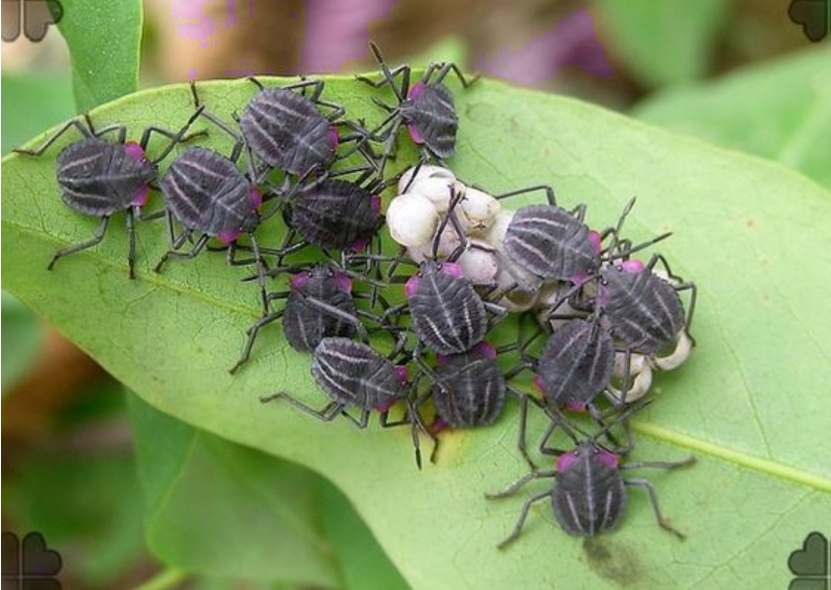Stink_Bug: (26, 119, 172, 222), (128, 145, 262, 256), (521, 417, 662, 522), (248, 255, 379, 363), (205, 77, 348, 162), (391, 157, 512, 251), (410, 339, 517, 439), (262, 160, 386, 245), (594, 247, 681, 352), (400, 256, 506, 340), (288, 337, 392, 421), (492, 201, 604, 268), (373, 52, 451, 140), (534, 314, 613, 395)
